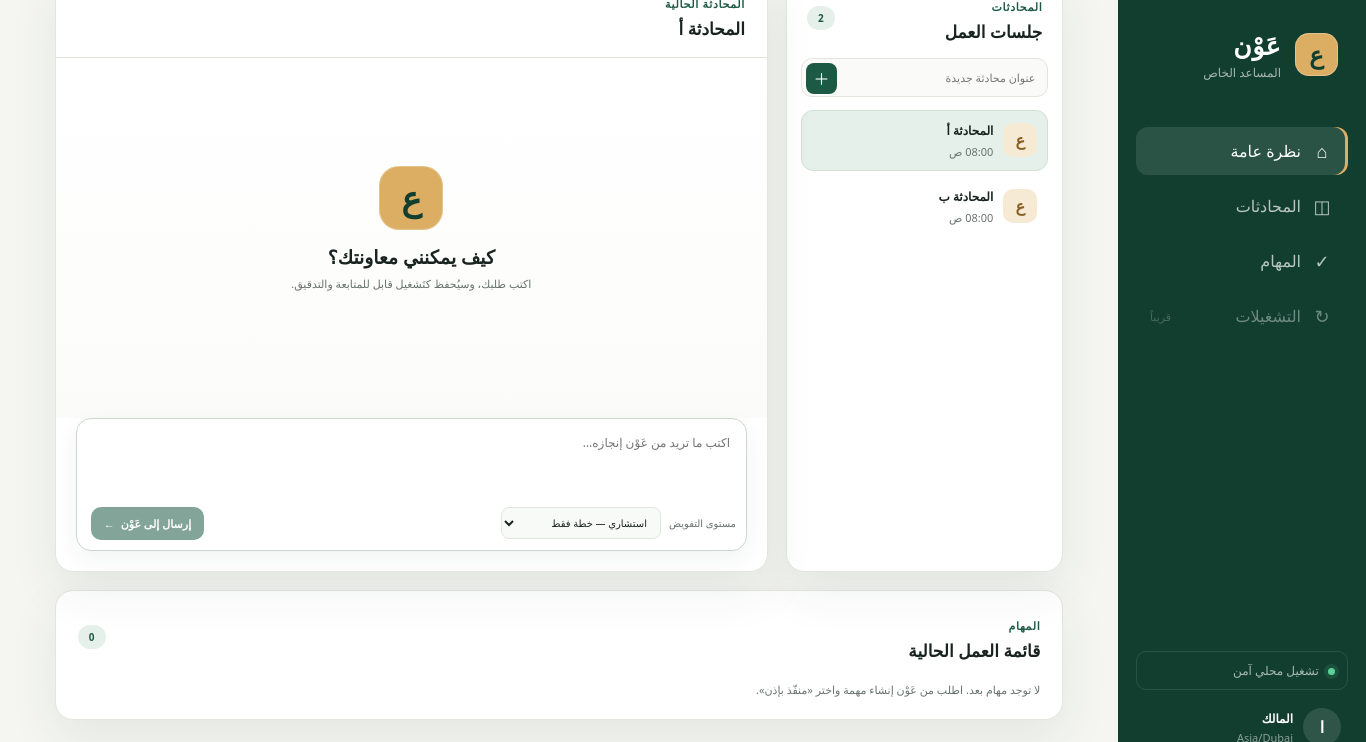
Test: FC-002 cancellation dashboard › keeps a delayed message response in its originating conversation
The width and height of the screenshot is (1366, 742).
(page scrolled)
Expected: the heading "المحادثة أ" is shown, [678,16,745,40]
Step 1. Type "طلب المحادثة أ" into the text box with placeholder "اكتب ما تريد من عَوْن إنجازه…" → [411, 459], box [77,418,746,499]
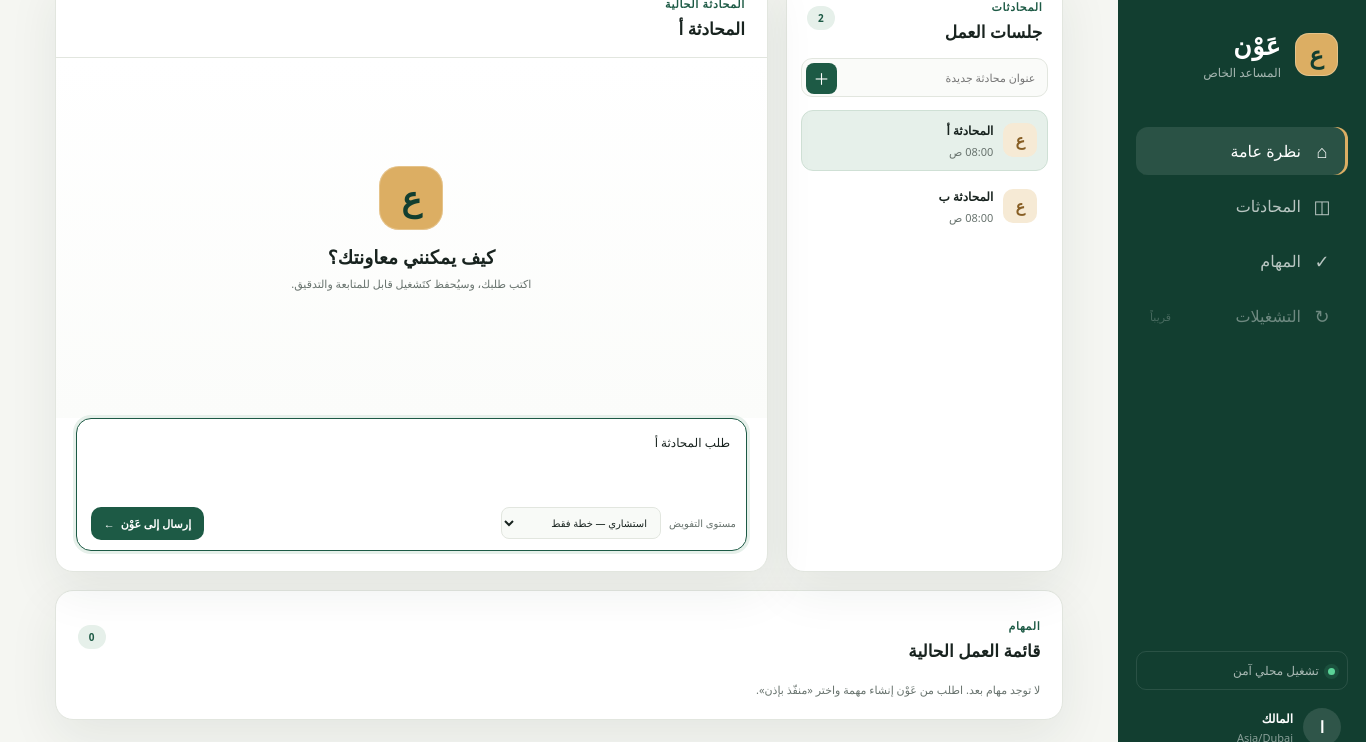
Step 2. Click the button "إرسال إلى عَوْن←" → [147, 523], box [91,507,204,540]
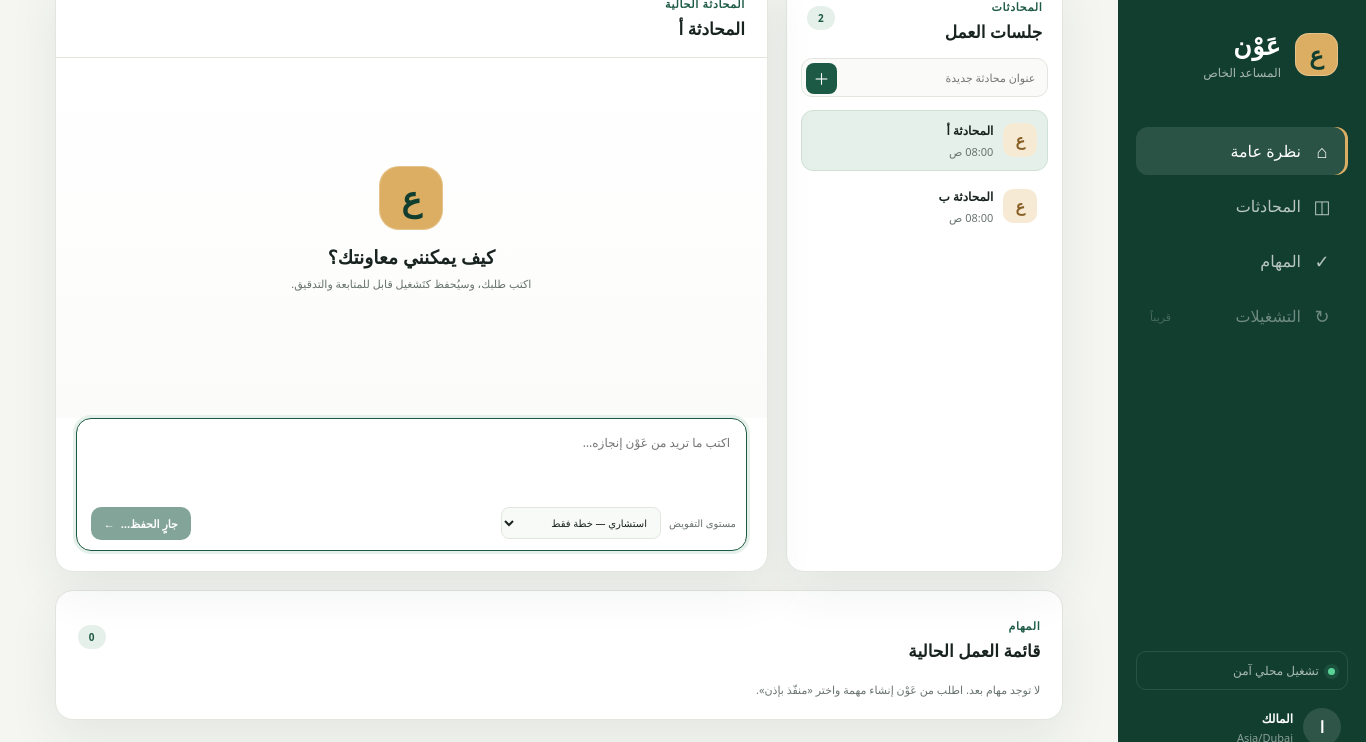
Step 3. Click the button "ع المحادثة ب 08:00 ص" → [925, 206], box [801,176,1048,236]
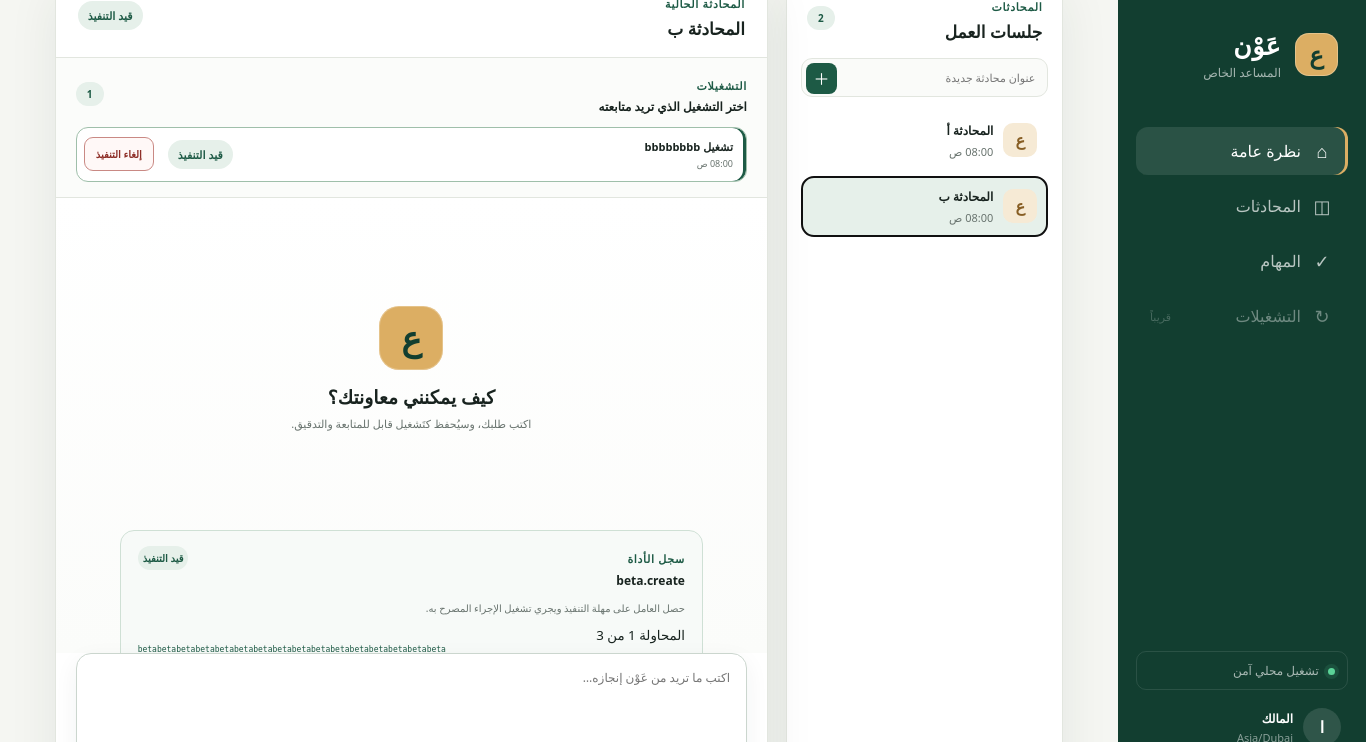
Expected: the text "طلب المحادثة أ" is not shown
Result: the heading "beta.create" is shown at [616,572,685,588]
Step 4. Click the button "ع المحادثة أ 08:00 ص" → [925, 140], box [801,110,1048,170]
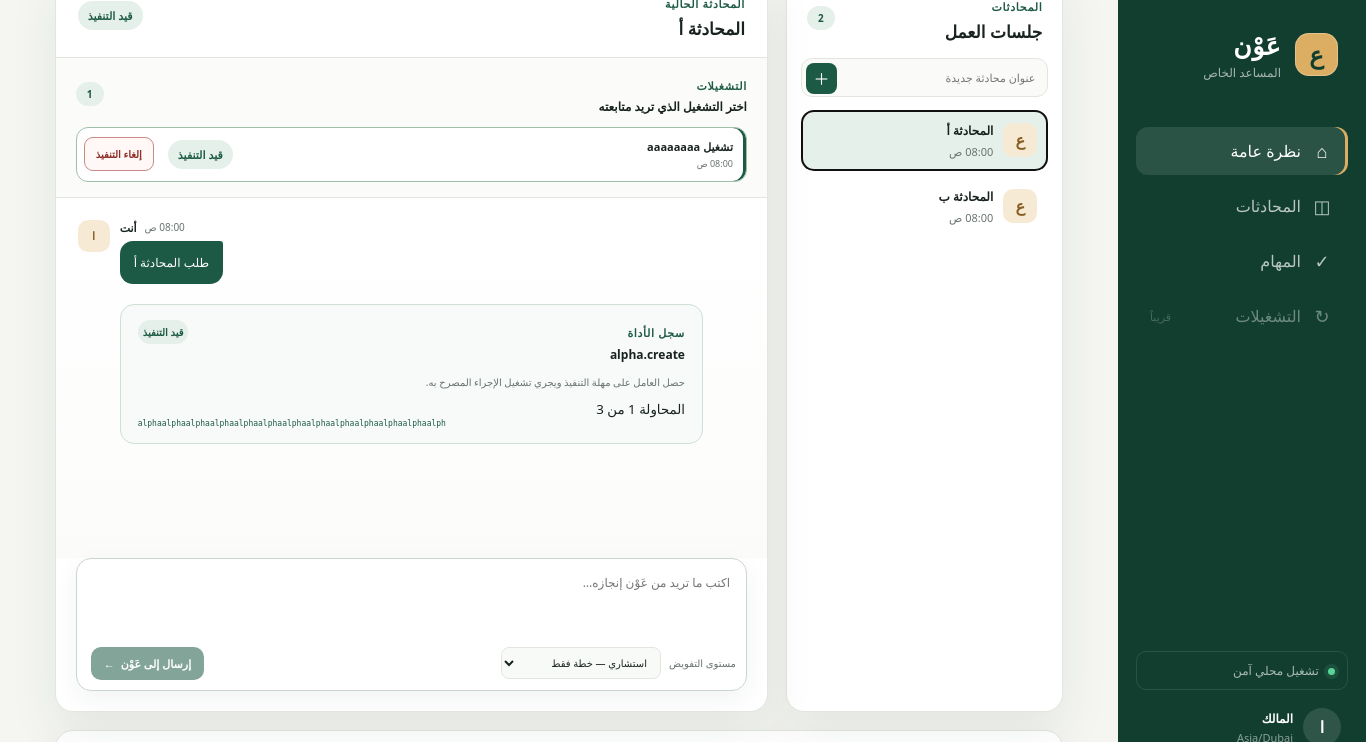
Result: the text "طلب المحادثة أ" is shown at [120,240,223,284]
Result: the heading "alpha.create" is shown at [610,346,685,363]
